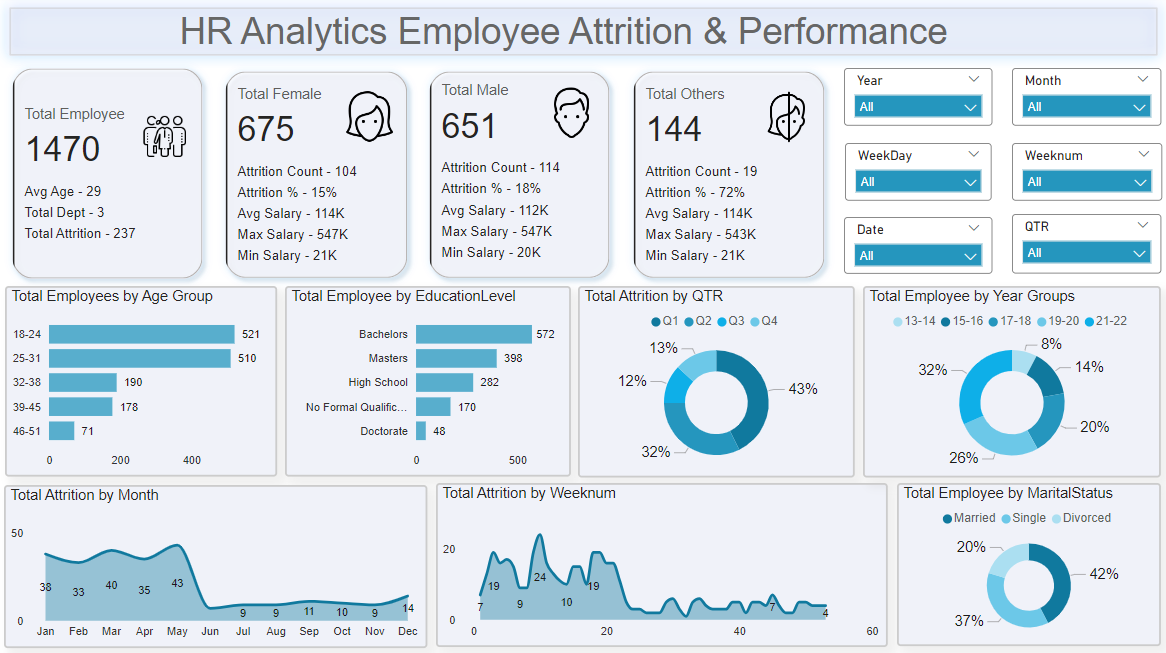

This screenshot's page, from the dashboard's own definition file:
{"tool":"powerbi","page":{"name":"Page 1","canvas":[1280,720],"ordinal":0},"visuals":[{"type":"cardVisual","fields":{"Data":["Measures Table.Total Others"]},"box":[677.4,67.1,242.6,259.4],"z":0},{"type":"cardVisual","fields":{"Data":["Measures Table.Total Employee"]},"box":[0,63.2,241.3,263.2],"z":1000},{"type":"cardVisual","fields":{"Data":["Measures Table.Total Male"]},"box":[455.5,67.1,231,259.4],"z":2000},{"type":"cardVisual","fields":{"Data":["Measures Table.Total Female"]},"box":[232.3,67.1,232.3,259.4],"z":3000},{"type":"shape","box":[0,0,1280,79.7],"z":4000},{"type":"actionButton","title":"HR Analytics Employee Attrition & Performance","box":[0,13.1,1236.4,54.6],"z":5000},{"type":"barChart","title":"Total Employees by Age Group","fields":{"Category":["Employee.Age (groups)"],"Y":["Measures Table.Total Employee"]},"box":[8.7,317.5,296.8,208.4],"z":6000},{"type":"barChart","fields":{"Category":["EducationLevel.EducationLevel"],"Y":["Measures Table.Total Employee"]},"box":[313.9,317.5,312.1,208.4],"z":7000},{"type":"donutChart","fields":{"Category":["DimTable.QTR"],"Y":["Measures Table.Total Attrition"]},"box":[634.3,317.4,301.9,209],"z":8000},{"type":"stackedAreaChart","fields":{"Category":["DimTable.Month"],"Y":["Measures Table.Total Attrition"]},"box":[7.7,534.2,461.9,178.1],"z":9000},{"type":"stackedAreaChart","fields":{"Category":["DimTable.Weeknum"],"Y":["Measures Table.Total Attrition"]},"box":[479.4,532.9,492.9,179.4],"z":10000},{"type":"donutChart","title":"Total Employee by Year Groups","fields":{"Category":["DimTable.Year (groups)"],"Y":["Measures Table.Total Employee"]},"box":[944.5,317.4,325.2,209],"z":11000},{"type":"donutChart","fields":{"Category":["Employee.MaritalStatus"],"Y":["Measures Table.Total Employee"]},"box":[981.9,532.9,287.7,178.1],"z":12000},{"type":"slicer","fields":{"Values":["DimTable.Year"]},"box":[924.3,79.7,161.5,63.3],"z":13000},{"type":"slicer","fields":{"Values":["DimTable.Month"]},"box":[1107.6,79.7,162.6,63.3],"z":14000},{"type":"slicer","fields":{"Values":["DimTable.Date"]},"box":[924.3,242.3,161.5,62.2],"z":15000},{"type":"slicer","fields":{"Values":["DimTable.WeekDay"]},"box":[925.4,161,160.4,63.3],"z":16000},{"type":"slicer","fields":{"Values":["DimTable.Weeknum"]},"box":[1107.6,161.5,163.7,63.3],"z":17000},{"type":"slicer","fields":{"Values":["DimTable.QTR"]},"box":[1107.6,239,162.6,65.5],"z":18000}]}

Visuals, with their boxes in screenshot pixels (x1, y1, x2, y2), scaled from the page's 1280x720 canvas onto the 1166x653 screenshot:
cardVisual - Measures Table.Total Others: 617, 61, 838, 296
cardVisual - Measures Table.Total Employee: 0, 57, 220, 296
cardVisual - Measures Table.Total Male: 415, 61, 625, 296
cardVisual - Measures Table.Total Female: 212, 61, 423, 296
shape: 0, 0, 1165, 72
"HR Analytics Employee Attrition & Performance" actionButton: 0, 12, 1126, 61
"Total Employees by Age Group" barChart: 8, 288, 278, 477
barChart - EducationLevel.EducationLevel x Measures Table.Total Employee: 286, 288, 570, 477
donutChart - DimTable.QTR x Measures Table.Total Attrition: 578, 288, 853, 477
stackedAreaChart - DimTable.Month x Measures Table.Total Attrition: 7, 484, 428, 646
stackedAreaChart - DimTable.Weeknum x Measures Table.Total Attrition: 437, 483, 886, 646
"Total Employee by Year Groups" donutChart: 860, 288, 1157, 477
donutChart - Employee.MaritalStatus x Measures Table.Total Employee: 894, 483, 1157, 645
slicer - DimTable.Year: 842, 72, 989, 130
slicer - DimTable.Month: 1009, 72, 1157, 130
slicer - DimTable.Date: 842, 220, 989, 276
slicer - DimTable.WeekDay: 843, 146, 989, 203
slicer - DimTable.Weeknum: 1009, 146, 1158, 204
slicer - DimTable.QTR: 1009, 217, 1157, 276
